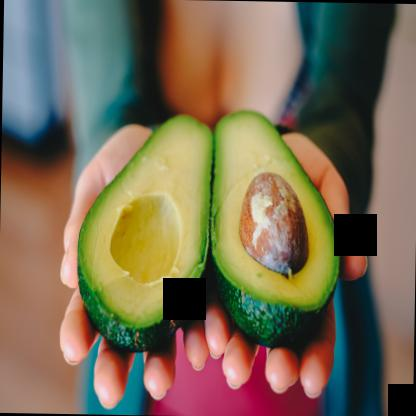avocado: (209, 105, 340, 347), (81, 113, 211, 353)
